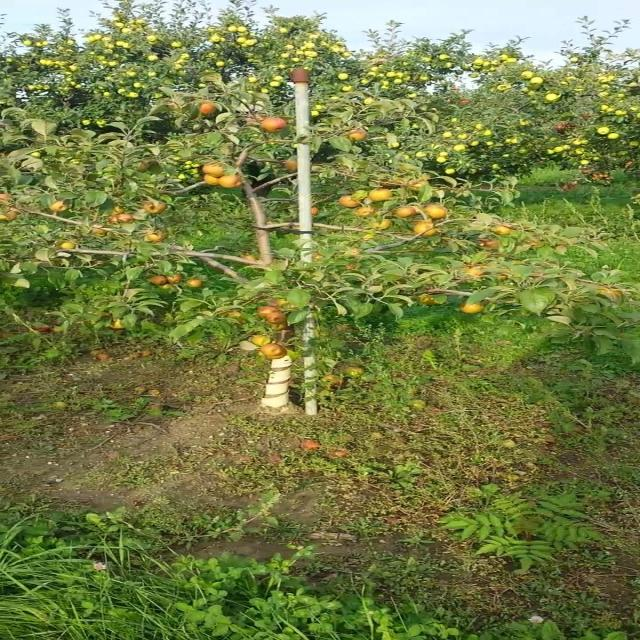apple: (141, 200, 167, 215), (262, 120, 286, 132), (205, 164, 228, 176), (220, 176, 242, 188), (426, 208, 448, 220), (340, 196, 361, 208), (262, 344, 283, 356), (269, 312, 290, 324), (326, 376, 347, 388), (419, 224, 439, 236), (397, 208, 418, 219), (461, 304, 484, 314), (148, 232, 167, 244), (604, 288, 624, 299), (198, 104, 217, 115), (369, 192, 391, 201), (419, 296, 441, 305), (227, 312, 244, 323), (6, 208, 21, 220), (106, 320, 126, 329), (284, 160, 299, 172), (355, 208, 377, 216), (412, 180, 428, 191), (255, 336, 270, 347), (271, 312, 286, 323), (49, 204, 69, 212), (348, 132, 368, 140), (56, 244, 78, 251), (148, 276, 165, 285), (376, 220, 393, 229), (468, 268, 485, 277), (205, 176, 220, 186), (483, 240, 501, 248), (262, 308, 277, 317), (348, 248, 363, 257), (120, 216, 135, 224), (497, 228, 512, 236), (170, 276, 185, 284), (92, 228, 107, 236), (276, 324, 290, 332), (227, 312, 242, 319), (191, 280, 204, 288), (497, 272, 510, 280), (113, 208, 126, 215), (348, 264, 359, 272), (276, 300, 288, 307), (312, 256, 325, 261), (312, 208, 320, 215), (141, 164, 149, 170), (115, 216, 119, 223)
